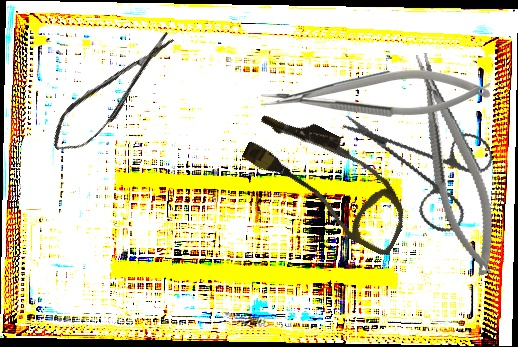Cannula: (231, 100, 427, 259)
Iris Scissors: (340, 79, 509, 252)
Micro Scissor: (41, 24, 187, 162)
Needle Holder: (404, 46, 507, 281), (260, 69, 492, 117)
